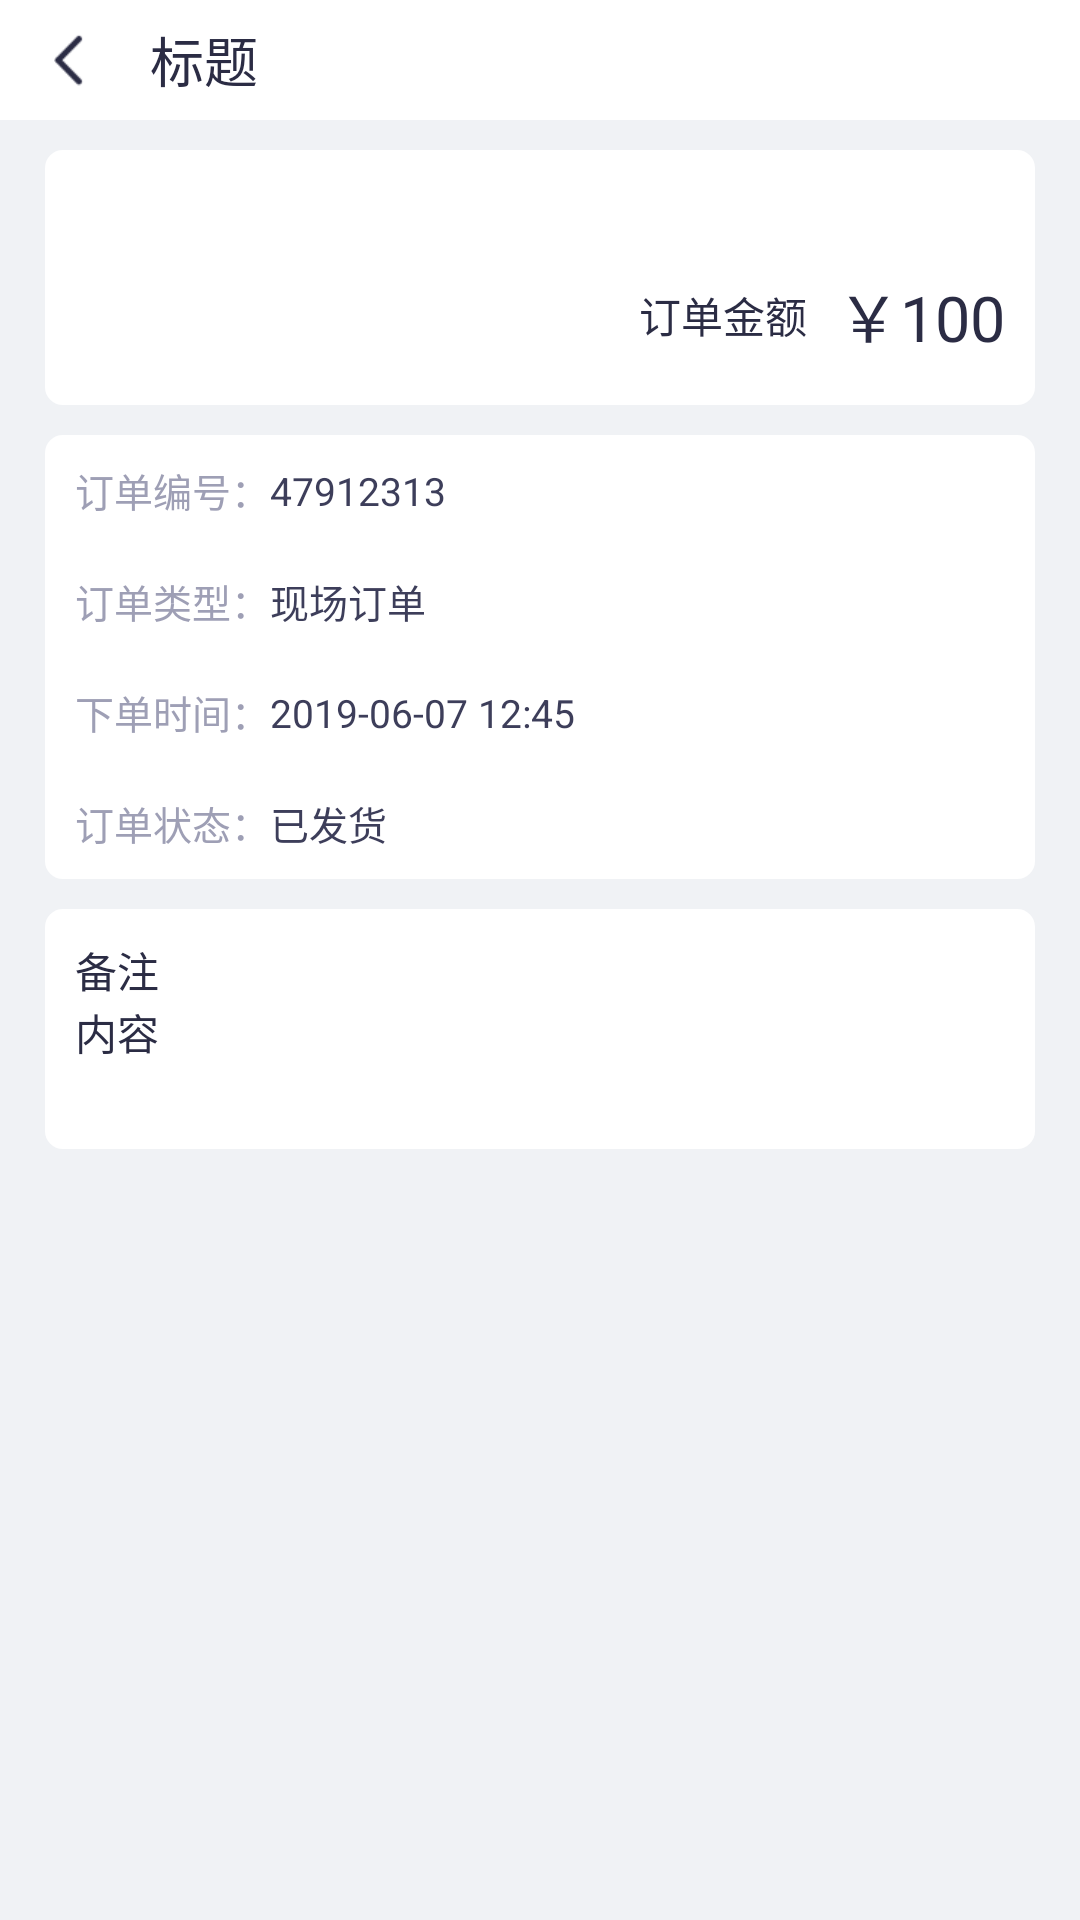

Where to tap for icons on this 1080 × 1920 app screen, as [x,y]:
return: [68,60]
